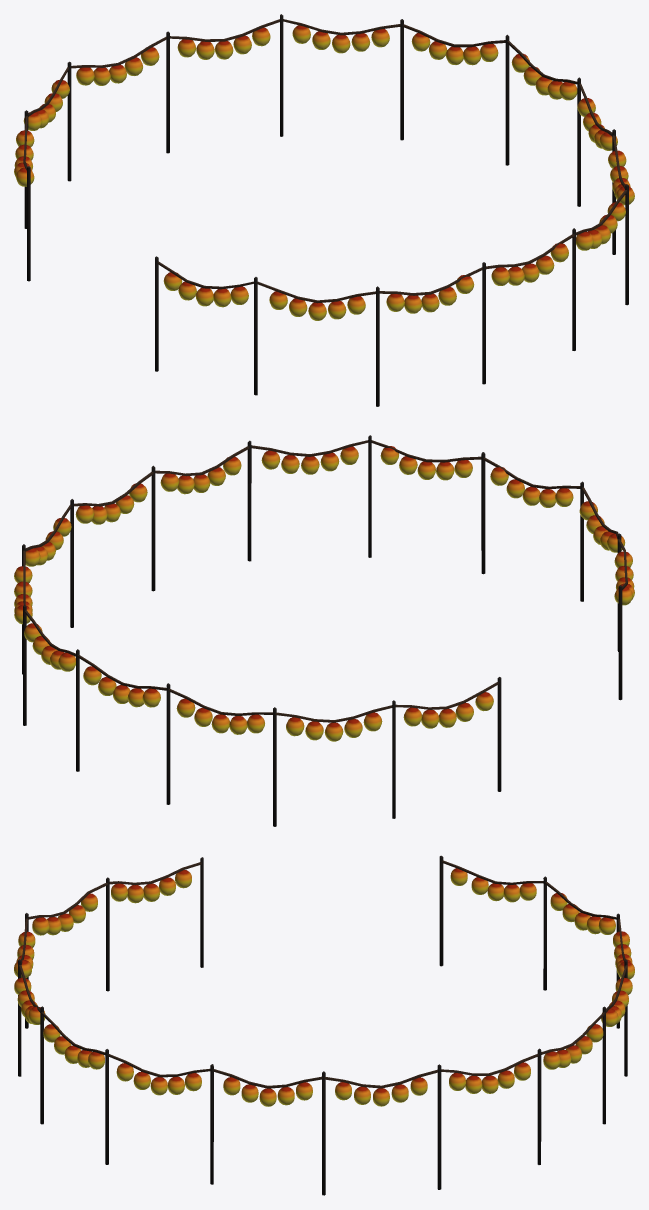
Rendered from HL_bot.fbx.
The picture shows the model from 3 angles, top to bottom: view 1: azimuth 30°, elevation 25°; view 2: azimuth 150°, elevation 25°; view 3: azimuth 270°, elevation 25°; orthographic projection. The views are drawn at different scales.
Visible parts, largest first — view 1: Hanging_Lantern_Bottom4; view 2: Hanging_Lantern_Bottom4; view 3: Hanging_Lantern_Bottom4.
Part boxes in pixels (box(x1,y1,x2,y2)): Hanging_Lantern_Bottom4: box(14, 14, 634, 406); Hanging_Lantern_Bottom4: box(14, 435, 634, 826); Hanging_Lantern_Bottom4: box(14, 855, 634, 1195).
Size of the model in its own units: 4134 by 1031 by 4637.
